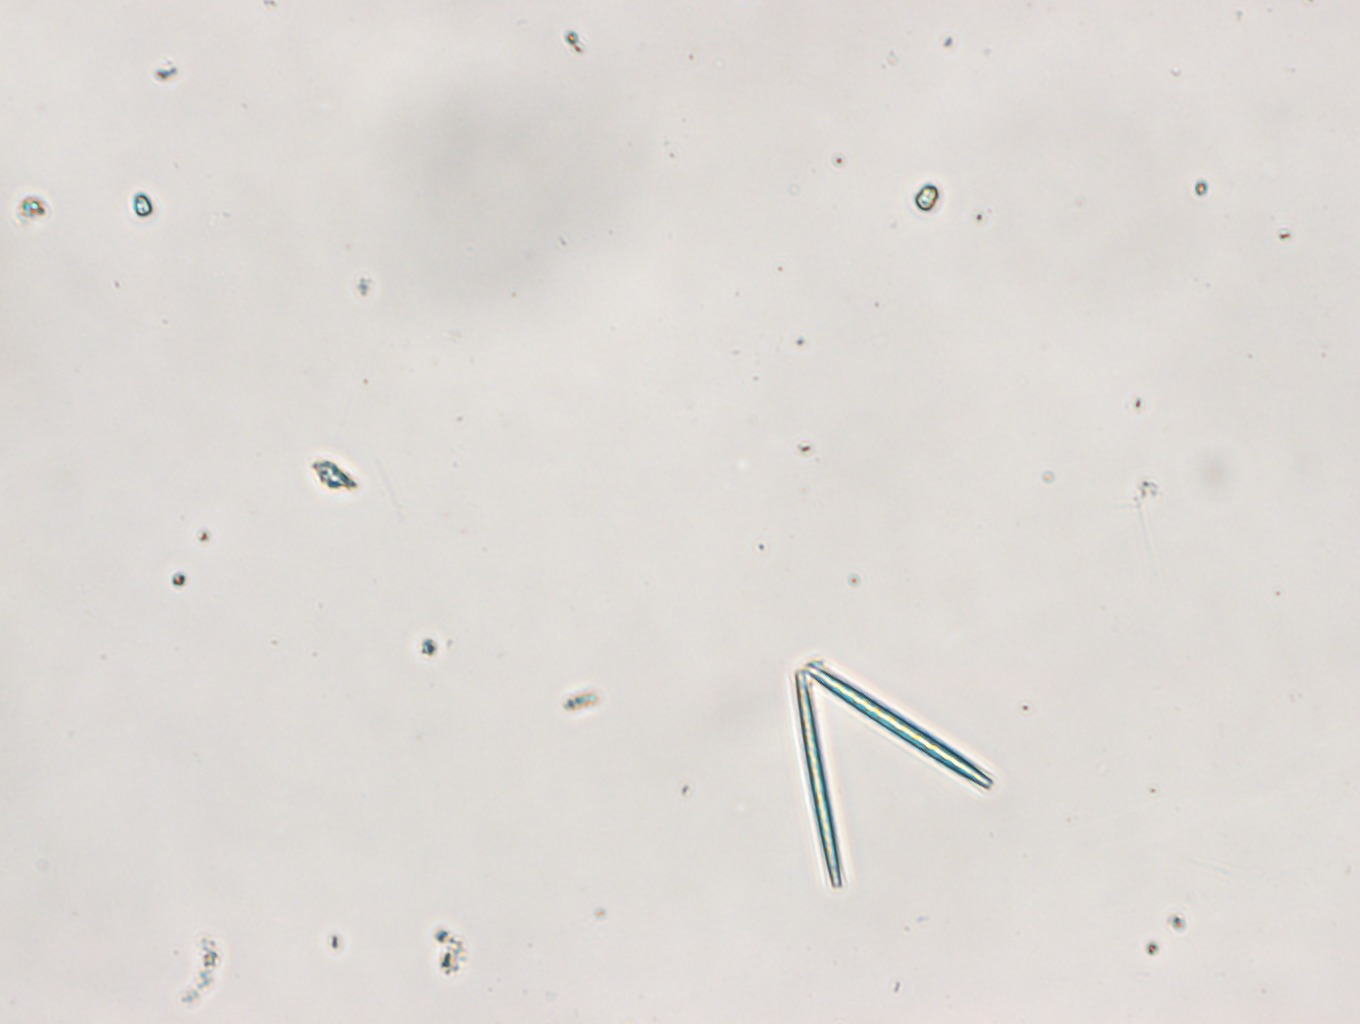thalassionema nitzschioides: (794, 658, 992, 888)
